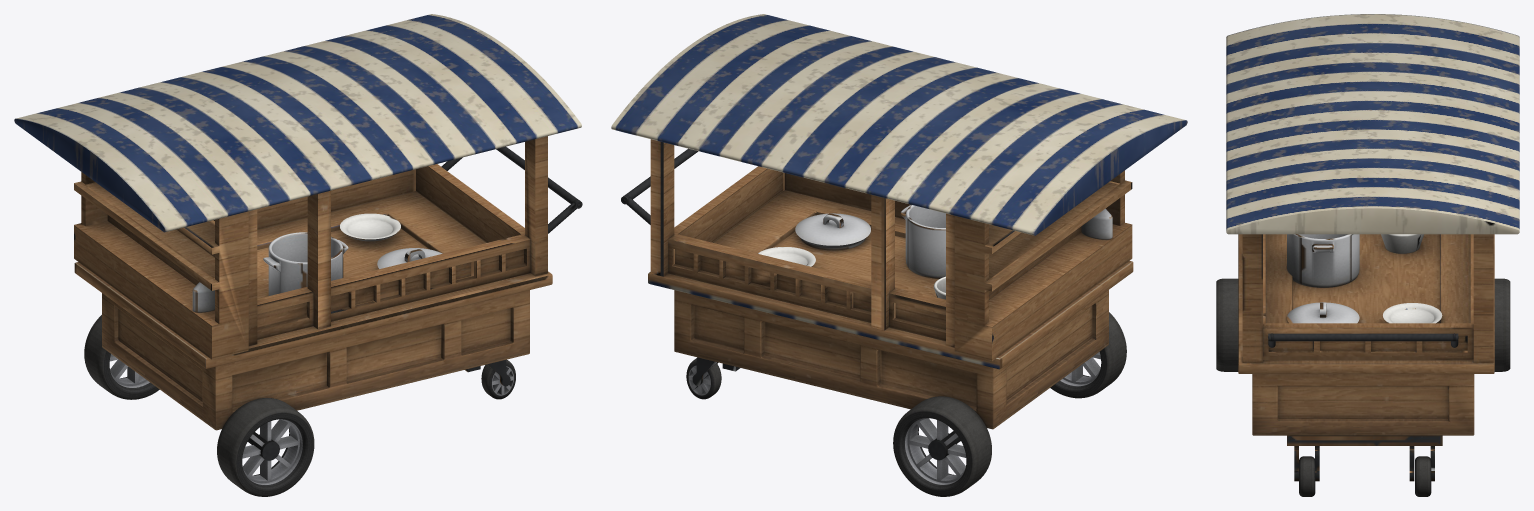
File: carrito_completo.obj
3 views of the same model, side by side, from view 1: azimuth 30°, elevation 25°; view 2: azimuth 150°, elevation 25°; view 3: azimuth 270°, elevation 25° (orthographic). The views are drawn at different scales.
Parts seen in each view (by area): view 1: carrito_Roof, carrito_Body1, carrito_Body3, carrito_Body2, rueda_grande_2, Pot, rueda_grande_1, Plate, rodaja_1; view 2: carrito_Roof, carrito_Body1, carrito_Body3, carrito_Body2, rueda_grande_1, Pot, rueda_grande_2, rodaja_2, Bottle_pet, Plate; view 3: carrito_Roof, carrito_Body2, carrito_Body3, carrito_Body1, Pot, carrito_wheel_small, rueda_grande_2, manubrio_barra, rueda_grande_1, Plate, Bowl, rodaja_1 (+1 smaller).
Part boxes in pixels (x1,y1,x2,y2): carrito_Roof: (14,14,581,232); carrito_Body1: (74,136,547,359); carrito_Body3: (102,290,529,430); carrito_Body2: (74,191,552,368); rueda_grande_2: (217,398,314,496); Pot: (263,232,442,295); rueda_grande_1: (84,315,159,399); Plate: (340,213,400,241); rodaja_1: (481,359,515,399); carrito_Roof: (611,14,1187,235); carrito_Body1: (650,139,1132,361); carrito_Body3: (674,290,1108,429); carrito_Body2: (648,190,1133,369); rueda_grande_1: (893,396,991,496); Pot: (795,205,945,278); rueda_grande_2: (1050,312,1126,398); rodaja_2: (686,358,721,399); Bottle_pet: (1081,208,1112,239); Plate: (758,247,815,266); carrito_Roof: (1226,14,1519,234); carrito_Body2: (1238,234,1494,373); carrito_Body3: (1252,374,1474,435); carrito_Body1: (1242,234,1493,362); Pot: (1287,234,1359,323); carrito_wheel_small: (1287,435,1442,481); rueda_grande_2: (1216,278,1238,371); manubrio_barra: (1268,333,1458,341); rueda_grande_1: (1494,278,1510,371); Plate: (1383,303,1442,323); Bowl: (1381,234,1423,253); rodaja_1: (1299,456,1315,496).
Size of the model in its own units: 74.62 by 51.35 by 46.
2 materials, 2 textured.
